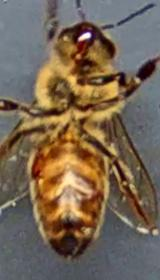varroa_mite: (18, 146, 46, 179)
